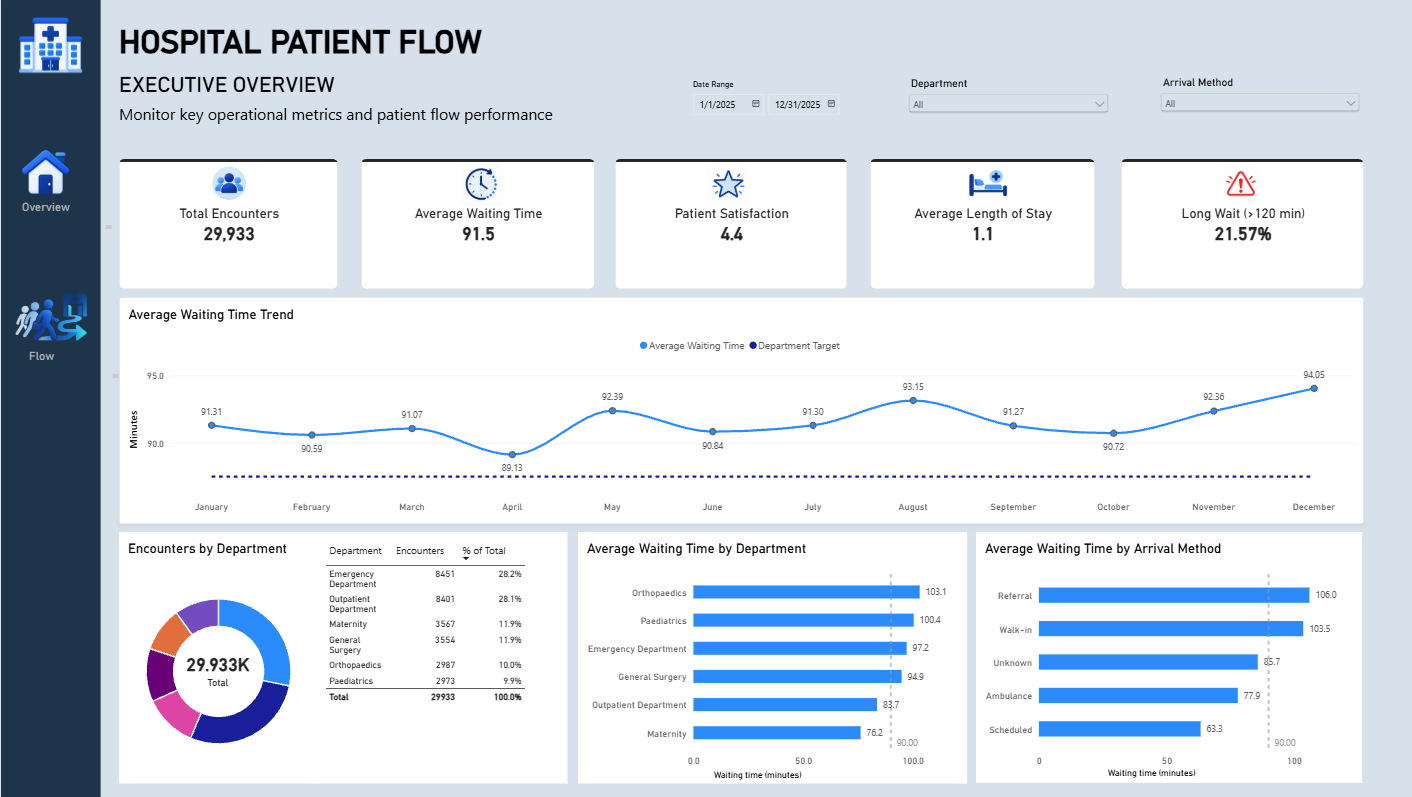

The dashboard page shown, as its layout file describes it:
{"tool":"powerbi","page":{"name":"Executive Overview","canvas":[1920,1080],"ordinal":0},"visuals":[{"type":"shape","box":[0,0,134.7,1080],"z":0,"group":"g7"},{"type":"slicer","fields":{"Values":["pipeline_dim_date.full_date"]},"box":[927.7,108.3,271.7,74.4],"z":0,"group":"g6"},{"type":"cardVisual","title":"Total Encounters","fields":{"Data":["pipeline_fact_encounters.Total Encounters"]},"box":[159.1,214.7,296.6,176.4],"z":0,"group":"g3"},{"type":"lineChart","title":"Average Waiting Time Trend","fields":{"Category":["pipeline_dim_date.month_name"],"Y":["pipeline_fact_encounters.Average Waiting Time","pipeline_fact_encounters.Department Target"]},"box":[159.1,401.3,1682.6,307.4],"z":0},{"type":"tableEx","fields":{"Values":["pipeline_dim_department.department_name","pipeline_fact_encounters.Total Encounters","pipeline_fact_encounters.Department % of Total"]},"box":[425.5,719.5,340.5,339.8],"z":0,"group":"g8"},{"type":"image","box":[0,8.2,134.7,106],"z":1000,"group":"g7"},{"type":"group","id":"g1","title":"Group 2","box":[159.1,31.3,778,159.1],"z":1000},{"type":"textbox","box":[159.1,31.3,692.1,53.1],"z":1000,"group":"g1"},{"type":"slicer","fields":{"Values":["pipeline_dim_department.department_name"]},"box":[1222.9,104.2,280.2,73.5],"z":1000,"group":"g6"},{"type":"group","id":"g2","title":"Group 1","box":[159.1,719.5,269.1,339.8],"z":1000,"group":"g8"},{"type":"textbox","box":[159.1,98.1,384,36.4],"z":2000,"group":"g1"},{"type":"slicer","fields":{"Values":["pipeline_dim_arrival_method.arrival_method"]},"box":[1562.7,103.4,279.3,66.8],"z":2000,"group":"g6"},{"type":"group","id":"g3","title":"Group 5","box":[159.1,186.3,1682.6,205.4],"z":2000},{"type":"group","id":"g4","title":"Group 3","box":[0,194.5,149.6,115.6],"z":2000,"group":"g7"},{"type":"textbox","box":[159.1,139.1,778.6,51.6],"z":3000,"group":"g1"},{"type":"group","id":"g5","title":"Group 6","box":[159.1,719.5,1681.2,340.1],"z":3000},{"type":"cardVisual","title":"Total Encounters","fields":{"Data":["pipeline_fact_encounters.Average Waiting Time"]},"box":[485.4,214.7,316.3,176.4],"z":4000,"group":"g9"},{"type":"clusteredBarChart","title":"Average Waiting Time by Department","fields":{"Category":["pipeline_dim_department.department_name"],"Y":["pipeline_fact_encounters.Average Waiting Time"]},"box":[779.1,719.7,525.9,339.8],"z":4000,"group":"g5"},{"type":"cardVisual","title":"Total Encounters","fields":{"Data":["pipeline_fact_encounters.Average Patient Satisfaction"]},"box":[829.4,214.7,314.4,176.4],"z":5000,"group":"g9"},{"type":"barChart","title":"Average Waiting Time by Arrival Method","fields":{"Category":["pipeline_dim_arrival_method.arrival_method"],"Y":["pipeline_fact_encounters.Average Waiting Time"]},"box":[1318.1,720,522.2,339.4],"z":5000,"group":"g5"},{"type":"group","id":"g6","title":"Group 7","box":[927.7,103.4,914.1,80.3],"z":6000},{"type":"cardVisual","title":"Total Encounters","fields":{"Data":["pipeline_fact_encounters.Average Length of Stay"]},"box":[1173.4,214.7,304.5,176.4],"z":6000,"group":"g9"},{"type":"group","id":"g7","title":"Group 5","box":[0,0,159,1080.6],"z":6001},{"type":"image","box":[0,371.3,134.7,121.1],"z":6002},{"type":"cardVisual","title":"Total Encounters","fields":{"Data":["pipeline_fact_encounters.Long Wait %"]},"box":[1513.5,214.7,328.2,176.4],"z":7000,"group":"g9"},{"type":"image","box":[0,194.5,121.1,76.2],"z":8000,"group":"g4"},{"type":"group","id":"g8","title":"Group 4","box":[159.1,719.5,606.9,339.8],"z":8000,"group":"g5"},{"type":"textbox","title":"Waiting time (minutes)","box":[936.2,1041.7,171.6,17.6],"z":9000,"group":"g5"},{"type":"textbox","title":"Waiting time (minutes)","box":[1469.1,1039.1,171.6,17.6],"z":10000,"group":"g5"},{"type":"image","box":[268.1,186.3,79.4,122.1],"z":11000,"group":"g9"},{"type":"textbox","title":"min","box":[629.6,311,148.5,59.9],"z":12000,"group":"g3"},{"type":"donutChart","title":"Encounters by Department","fields":{"Category":["pipeline_dim_department.department_name"],"Y":["pipeline_fact_encounters.Total Encounters"]},"box":[159.1,719.5,269.1,339.8],"z":12000,"group":"g2"},{"type":"image","box":[601,221.3,95.8,56],"z":13000,"group":"g9"},{"type":"textbox","title":"/10","box":[964.2,311,148.5,59.9],"z":14000,"group":"g3"},{"type":"image","box":[931,221.3,104,57.5],"z":15000,"group":"g9"},{"type":"textbox","title":"days","box":[1307.7,311,148.5,59.9],"z":16000,"group":"g3"},{"type":"cardVisual","title":"Total Encounters","fields":{"Data":["pipeline_fact_encounters.Total Encounters"]},"box":[216.8,845.5,151.7,127.9],"z":16000,"group":"g2"},{"type":"textbox","title":"Overview","box":[28.6,270.7,121.1,39.4],"z":16002,"group":"g4"},{"type":"textbox","title":"Flow","box":[38.1,472,121.1,39.4],"z":16002},{"type":"image","box":[1286.9,222.8,91.7,50.3],"z":17000,"group":"g9"},{"type":"image","box":[1636,224.2,78,50.3],"z":18000,"group":"g9"},{"type":"group","id":"g9","title":"Group 3","box":[268.1,186.3,1573.6,204.9],"z":18002,"group":"g3"}]}

Visuals, with their boxes on the page's 1920x1080 design canvas (x1, y1, x2, y2). These are canvas units, not pixel positions in the 1412x797 screenshot, which may show the page scaled, cropped or inside an application window:
shape: bbox(0, 0, 135, 1080)
slicer - pipeline_dim_date.full_date: bbox(928, 108, 1199, 183)
"Total Encounters" cardVisual: bbox(159, 215, 456, 391)
"Average Waiting Time Trend" lineChart: bbox(159, 401, 1842, 709)
tableEx - pipeline_dim_department.department_name x pipeline_fact_encounters.Total Encounters: bbox(426, 720, 766, 1059)
image: bbox(0, 8, 135, 114)
"Group 2" group: bbox(159, 31, 937, 190)
textbox: bbox(159, 31, 851, 84)
slicer - pipeline_dim_department.department_name: bbox(1223, 104, 1503, 178)
"Group 1" group: bbox(159, 720, 428, 1059)
textbox: bbox(159, 98, 543, 134)
slicer - pipeline_dim_arrival_method.arrival_method: bbox(1563, 103, 1842, 170)
"Group 5" group: bbox(159, 186, 1842, 392)
"Group 3" group: bbox(0, 194, 150, 310)
textbox: bbox(159, 139, 938, 191)
"Group 6" group: bbox(159, 720, 1840, 1060)
"Total Encounters" cardVisual: bbox(485, 215, 802, 391)
"Average Waiting Time by Department" clusteredBarChart: bbox(779, 720, 1305, 1060)
"Total Encounters" cardVisual: bbox(829, 215, 1144, 391)
"Average Waiting Time by Arrival Method" barChart: bbox(1318, 720, 1840, 1059)
"Group 7" group: bbox(928, 103, 1842, 184)
"Total Encounters" cardVisual: bbox(1173, 215, 1478, 391)
"Group 5" group: bbox(0, 0, 159, 1081)
image: bbox(0, 371, 135, 492)
"Total Encounters" cardVisual: bbox(1514, 215, 1842, 391)
image: bbox(0, 194, 121, 271)
"Group 4" group: bbox(159, 720, 766, 1059)
"Waiting time (minutes)" textbox: bbox(936, 1042, 1108, 1059)
"Waiting time (minutes)" textbox: bbox(1469, 1039, 1641, 1057)
image: bbox(268, 186, 348, 308)
"min" textbox: bbox(630, 311, 778, 371)
"Encounters by Department" donutChart: bbox(159, 720, 428, 1059)
image: bbox(601, 221, 697, 277)
"/10" textbox: bbox(964, 311, 1113, 371)
image: bbox(931, 221, 1035, 279)
"days" textbox: bbox(1308, 311, 1456, 371)
"Total Encounters" cardVisual: bbox(217, 846, 368, 973)
"Overview" textbox: bbox(29, 271, 150, 310)
"Flow" textbox: bbox(38, 472, 159, 511)
image: bbox(1287, 223, 1379, 273)
image: bbox(1636, 224, 1714, 274)
"Group 3" group: bbox(268, 186, 1842, 391)
